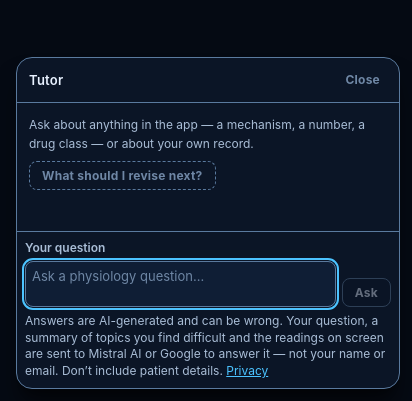
Test case: ChatPanel › says what the daily cap is rather than failing silently
Type "anything" into the text box labelled "Your question" at (180, 284), box [25,261,336,307]
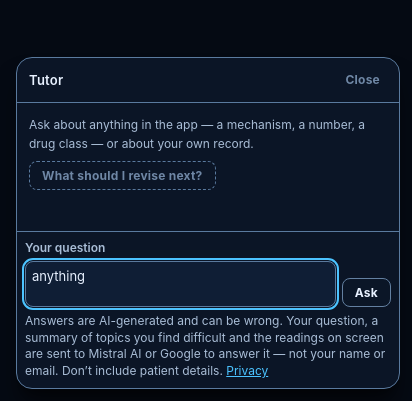
Click the button "Ask" at (366, 292), box [342,278,391,307]
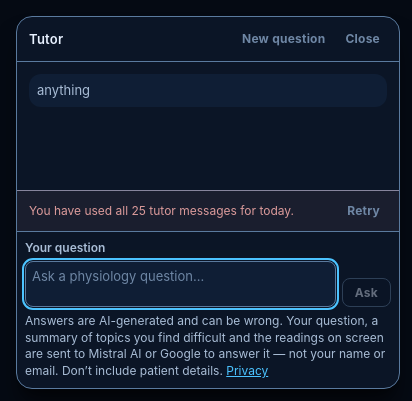
Expected: the message shows "You have used all 25 tutor messages for today.", [29,203,294,218]
